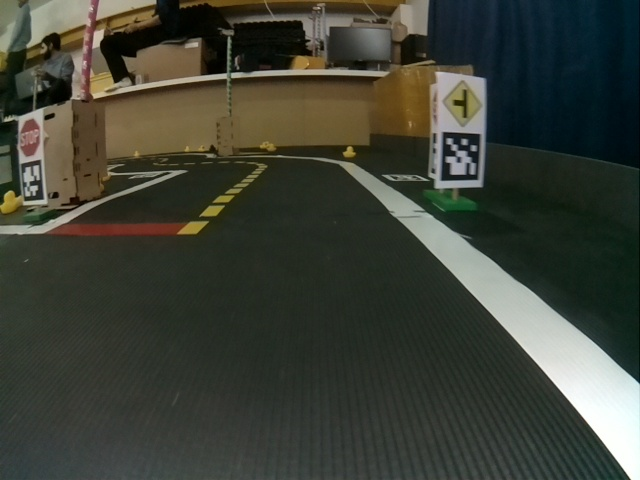Duckie: (1, 193, 20, 211), (343, 147, 354, 156), (268, 145, 276, 153), (183, 146, 191, 154), (260, 141, 267, 150), (132, 152, 141, 159), (198, 146, 206, 152)
Intersection sign: (439, 73, 485, 127)
QR code: (440, 132, 482, 182), (20, 159, 44, 201), (386, 175, 427, 182)
Stop sign: (18, 112, 44, 156)
